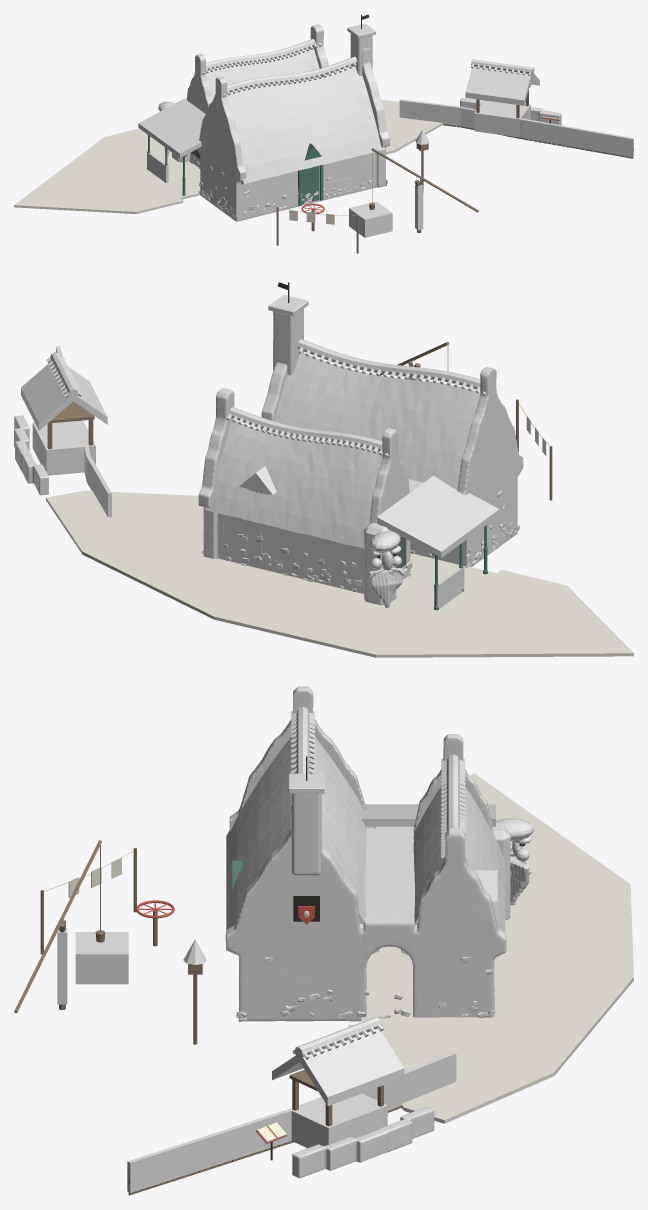
File: GT_geitjes.fbx
The picture shows the model from 3 angles, top to bottom: view 1: azimuth 30°, elevation 25°; view 2: azimuth 150°, elevation 25°; view 3: azimuth 270°, elevation 25°; orthographic projection. The views are drawn at different scales.
Parts seen in each view (by area): view 1: static__TEX_riet_0, static__MAT_grind_0, static__TEX_stuc_V_0, static__TEX_stuc_L_0, COLL_0, static__TEX_pannen_0, COLL_5, static__MAT_hout_0, static__MAT_groen_0, COLL_8, COLL_3, COLL_6 (+7 smaller); view 2: static__MAT_grind_0, static__TEX_riet_0, static__TEX_stuc_L_0, static__TEX_pannen_0, COLL_1, static__TEX_stuc_A_0, static__TEX_stuc_A_1, static__TEX_stuc_A_2, COLL_5, COLL_0, static__TEX_stuc_L_1, static__TEX_stuc_A_3 (+6 smaller); view 3: static__MAT_grind_0, static__TEX_stuc_R_0, static__TEX_riet_0, static__TEX_stuc_R_1, static__TEX_pannen_0, COLL_5, static__MAT_hout_0, COLL_3, COLL_8, COLL_9, COLL_6, static__TEX_stuc_A_3 (+8 smaller).
Part boxes in pixels (x1,y1,x2,y2): static__TEX_riet_0: (138,48,539,184); static__MAT_grind_0: (14,99,443,213); static__TEX_stuc_V_0: (200,27,389,221); static__TEX_stuc_L_0: (186,26,382,221); COLL_0: (200,143,364,216); static__TEX_pannen_0: (202,39,534,96); COLL_5: (474,100,530,137); static__MAT_hout_0: (276,84,633,253); static__MAT_groen_0: (147,135,323,205); COLL_8: (523,119,584,148); COLL_3: (349,201,392,237); COLL_6: (399,99,461,125); static__MAT_grind_0: (46,490,633,657); static__TEX_riet_0: (21,352,499,557); static__TEX_stuc_L_0: (208,353,523,571); static__TEX_pannen_0: (46,339,486,457); COLL_1: (219,515,410,586); static__TEX_stuc_A_0: (198,362,522,593); static__TEX_stuc_A_1: (198,312,337,586); static__TEX_stuc_A_2: (268,295,403,607); COLL_5: (32,420,95,475); COLL_0: (422,459,517,565); static__TEX_stuc_L_1: (24,300,404,607); static__TEX_stuc_A_3: (14,415,384,604); static__MAT_grind_0: (347,773,633,1123); static__TEX_stuc_R_0: (226,691,505,1021); static__TEX_riet_0: (183,737,505,1105); static__TEX_stuc_R_1: (288,787,530,1178); static__TEX_pannen_0: (290,706,465,1059); COLL_5: (290,1093,387,1148); static__MAT_hout_0: (14,840,400,1195); COLL_3: (75,932,128,984); COLL_8: (197,1111,286,1170); COLL_9: (127,1139,199,1192); COLL_6: (384,1052,456,1110); static__TEX_stuc_A_3: (292,821,532,1177).
Bounding box in the file's own units: 29.76 × 10.7 × 18.65.
